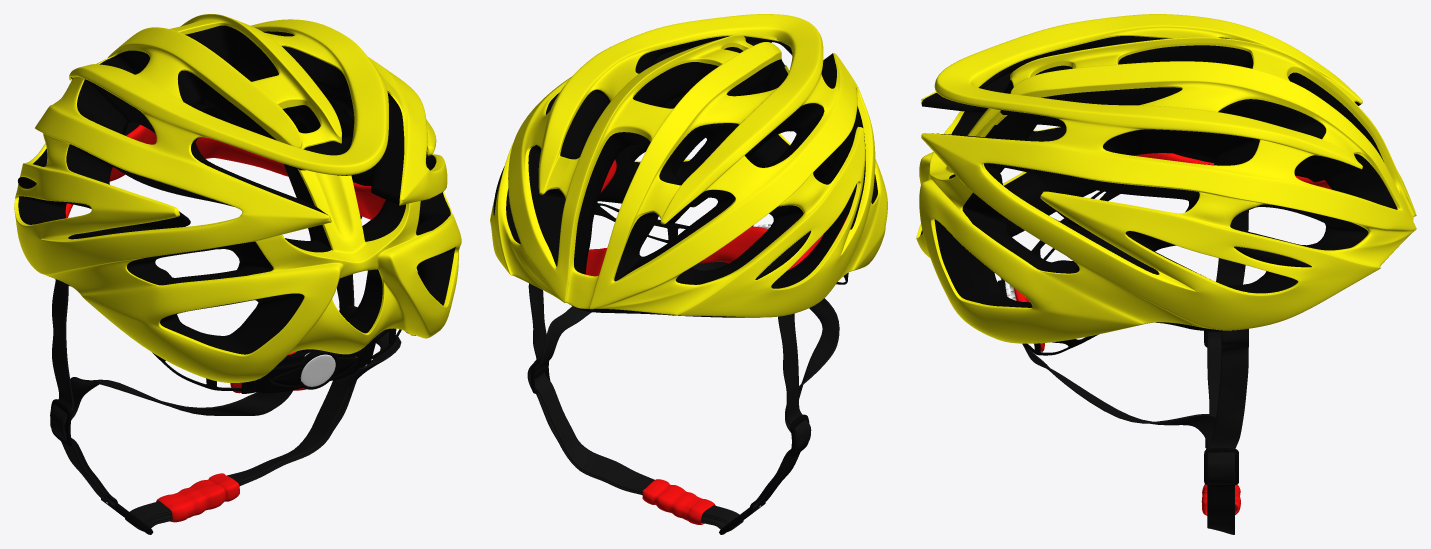
Rendered from bicycle-helmet-ori.glb.
3 views of the same model, side by side, from view 1: azimuth 30°, elevation 25°; view 2: azimuth 150°, elevation 25°; view 3: azimuth 270°, elevation 25° (orthographic). The views are drawn at different scales.
Parts seen in each view (by area): view 1: Helmet (×2), Helmet_Material #305180_0, Helmet_Material #305177_0 (×3), Helmet_Material #305179_0, Helmet__0; view 2: Helmet (×2), Helmet_Material #305180_0, Helmet_Material #305177_0 (×2), Helmet_Material #305178_0 (×2); view 3: Helmet (×2), Helmet_Material #305180_0, Helmet_Material #305178_0.
Part boxes in pixels (left/top/right/bottom): Helmet (×2): left=14, top=14, right=461, bottom=382; Helmet_Material #305180_0: left=50, top=215, right=401, bottom=531; Helmet_Material #305177_0 (×3): left=65, top=124, right=385, bottom=522; Helmet_Material #305179_0: left=241, top=337, right=376, bottom=393; Helmet__0: left=300, top=353, right=335, bottom=386; Helmet (×2): left=490, top=14, right=887, bottom=317; Helmet_Material #305180_0: left=527, top=225, right=839, bottom=531; Helmet_Material #305177_0 (×2): left=642, top=226, right=767, bottom=524; Helmet_Material #305178_0 (×2): left=493, top=166, right=810, bottom=279; Helmet (×2): left=916, top=14, right=1416, bottom=343; Helmet_Material #305180_0: left=1000, top=210, right=1248, bottom=534; Helmet_Material #305178_0: left=1234, top=246, right=1311, bottom=267.
Bounding box in the file's own units: 547 × 691 × 657.
